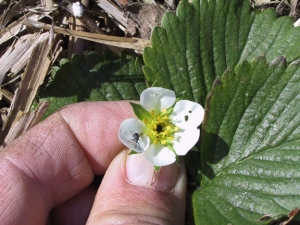dolgonosik: (129, 127, 145, 151)
